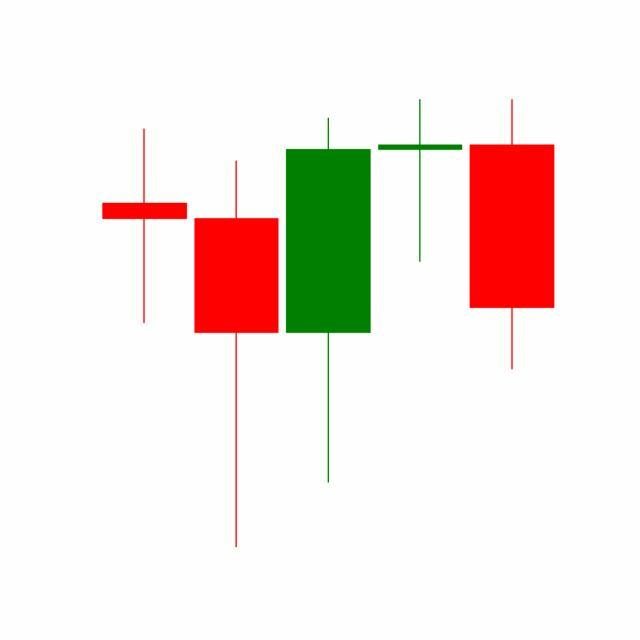Spinning Top: (374, 97, 468, 264)
